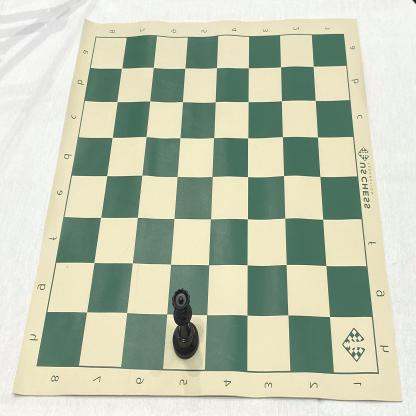black-queen: (172, 288, 200, 360)
